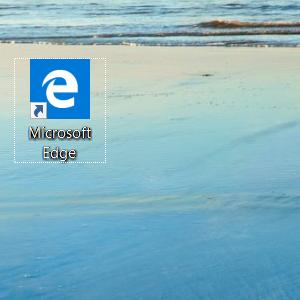edge: (30, 59, 90, 119)
